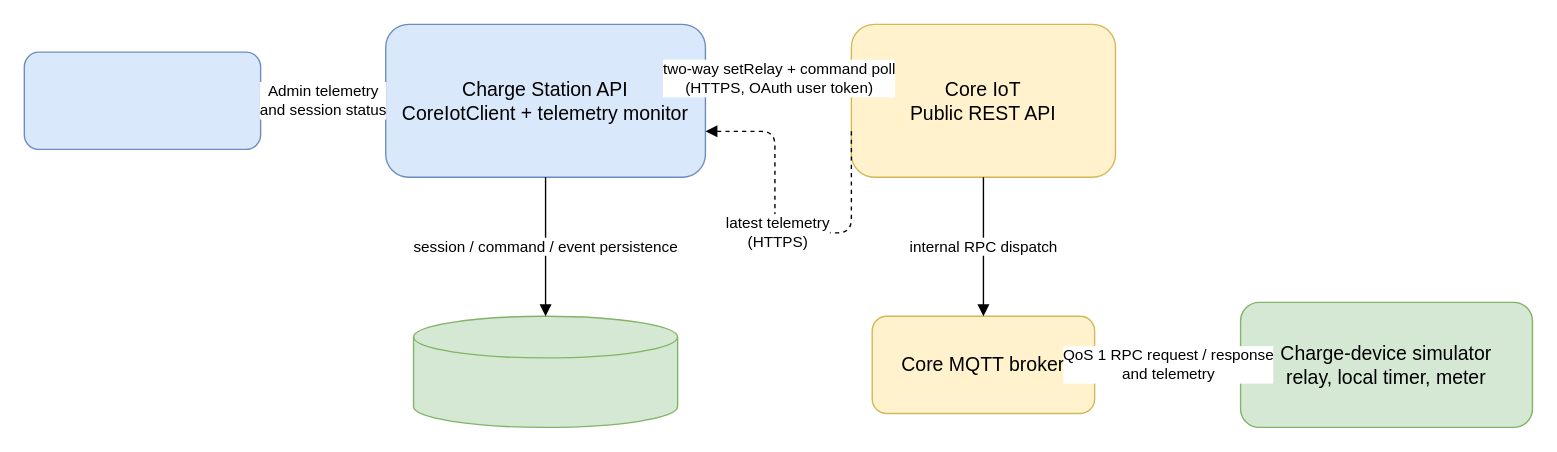
Image size: 1557x452. Some labels were removed from this diagram. Each missing label, with the box of its shape:
Admin browser Charge Station UI: (23, 51, 261, 149)
PostgreSQL sessions, commands, events: (412, 315, 678, 427)
